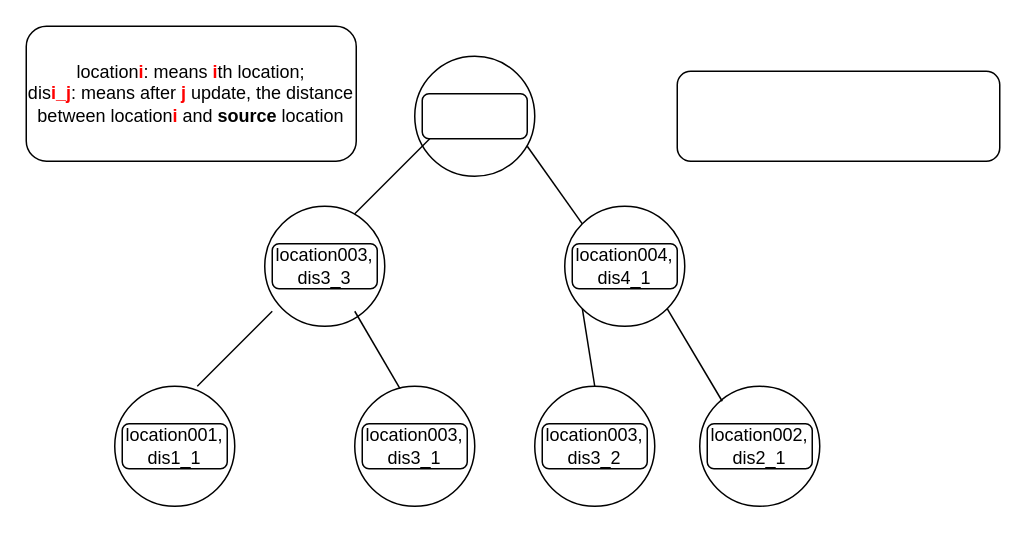
Image size: 1026x533. Some labels were removed from this diagram. Here are the shapes that lost their labels. From the top down, the centre of each, then its label:
At (x=474, y=115): "location002, dis2_2".
At (x=838, y=115): "some nodes would have the same name but different distance".
